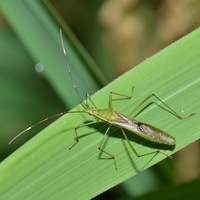insect: (0, 113, 165, 199), (91, 28, 199, 154)
